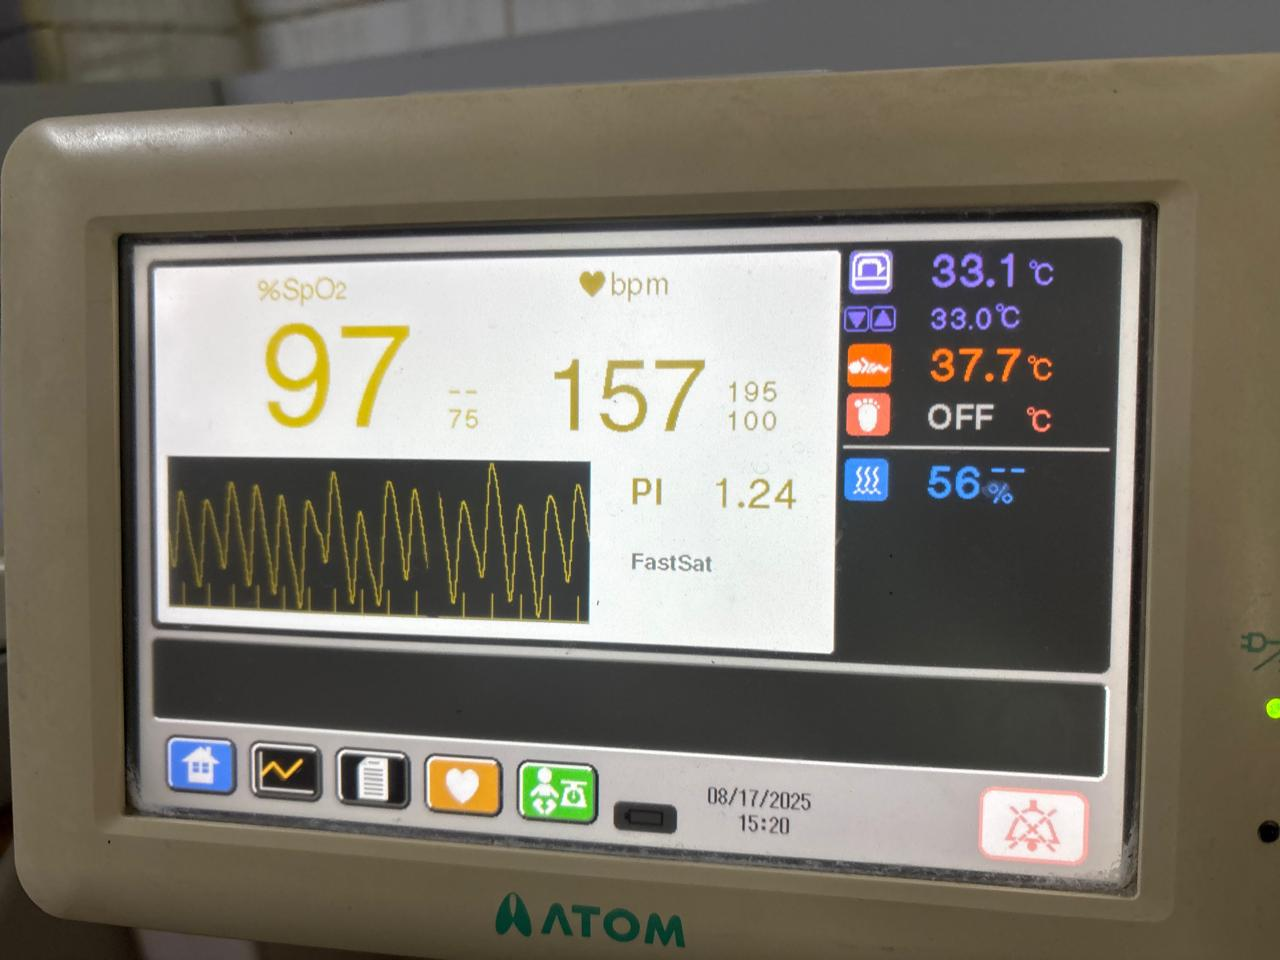heart_rate_value: (537, 336, 721, 453)
humidity_value: (908, 453, 985, 513)
skin_temp_value: (917, 333, 1021, 393)
spo2_value: (241, 314, 424, 442)
